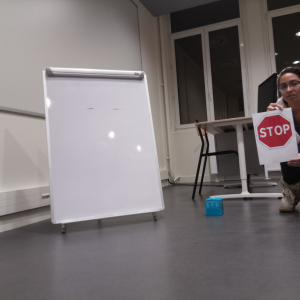big: (43, 66, 165, 223)
small: (203, 195, 225, 216)
